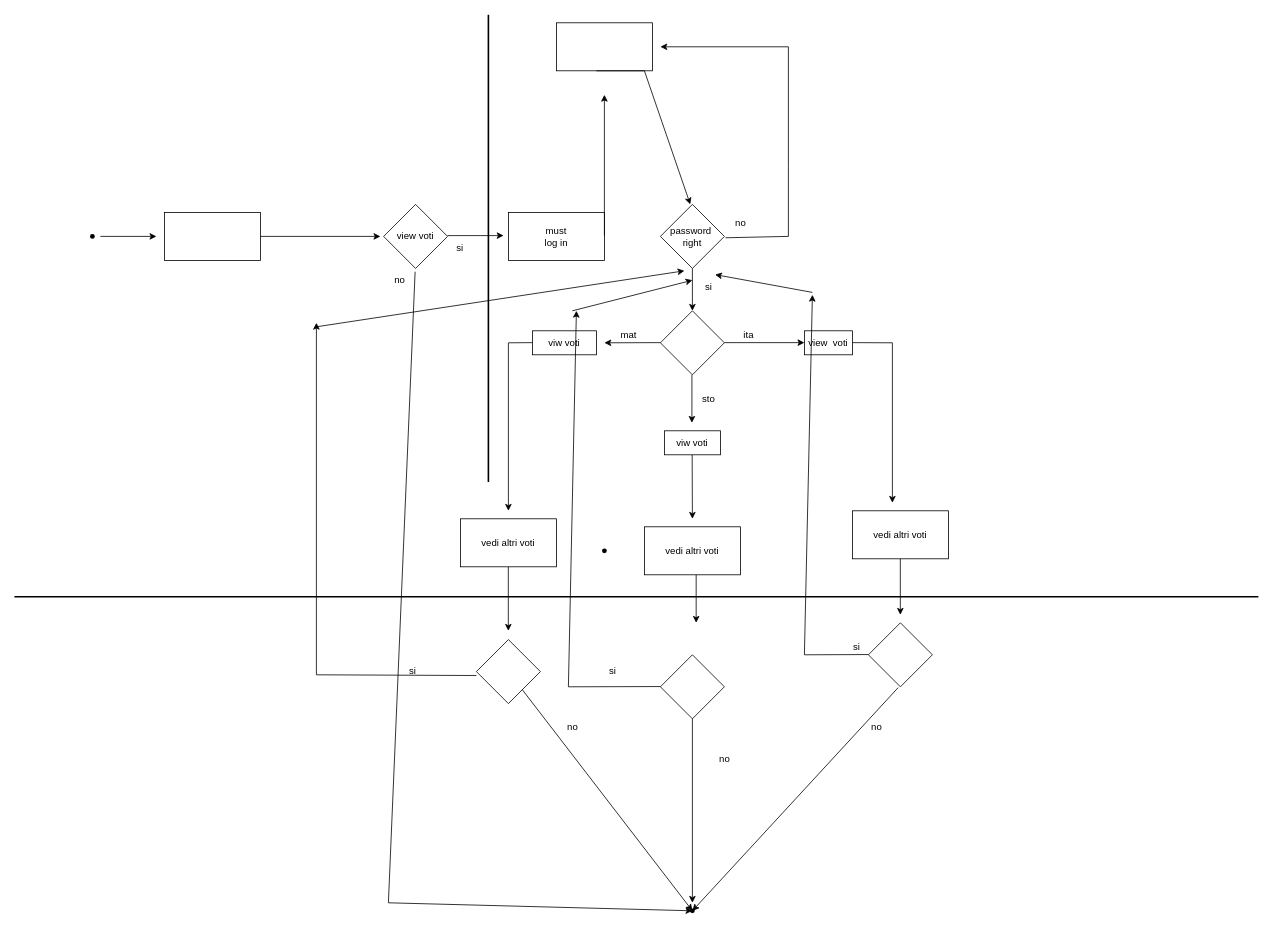
The diagram is 1273 pixels wide and 933 high, and some of its shapes have lost their labels. The centre of each missing label's shape, as x and y in pixels:
"chose voti" goes at point 692,342.
"metti pass" goes at point 604,46.
"vuoi vedere i voti" goes at point 212,236.
